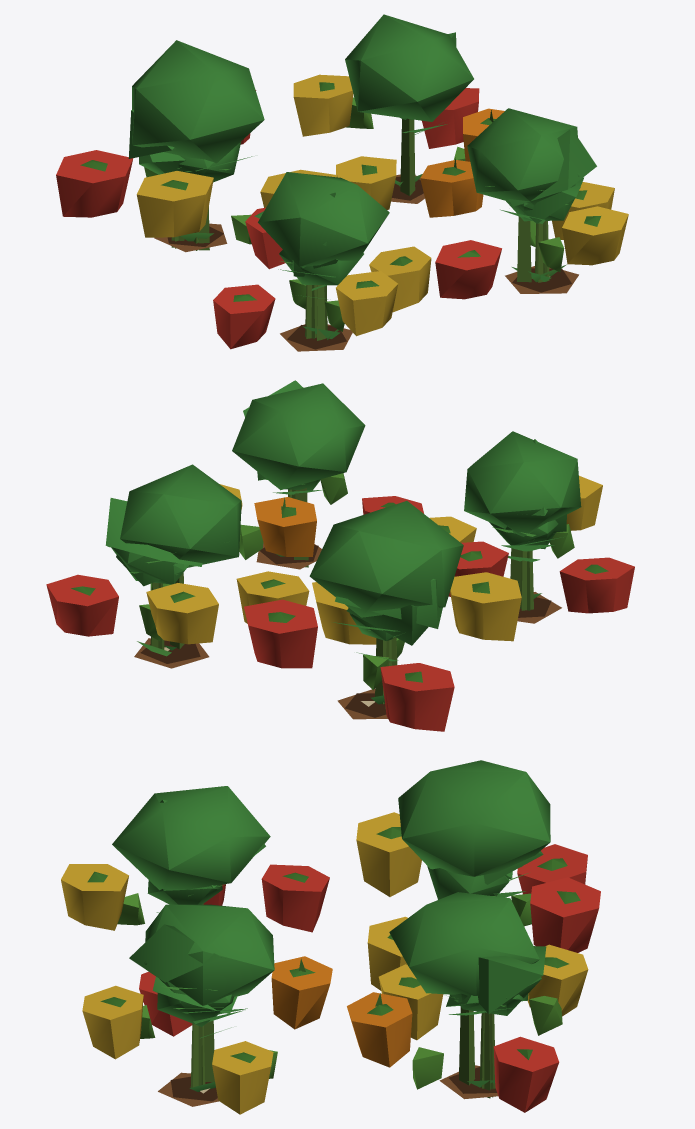
Rendered from pepper.glb.
The picture shows the model from 3 angles, top to bottom: view 1: azimuth 30°, elevation 25°; view 2: azimuth 150°, elevation 25°; view 3: azimuth 270°, elevation 25°; orthographic projection. The views are drawn at different scales.
Visible parts, largest first — view 1: crop-pepper-3, crop-pepper-2, crop-pepper-0, crop-pepper-3-far, crop-pepper-2-far, crop-pepper-1; view 2: crop-pepper-3, crop-pepper-2, crop-pepper-3-far, crop-pepper-0, crop-pepper-2-far; view 3: crop-pepper-3, crop-pepper-2, crop-pepper-3-far, crop-pepper-0, crop-pepper-2-far.
Boxes of the visible parts, x1=… form: crop-pepper-3: x1=56, y1=14, x2=628, y2=349; crop-pepper-2: x1=144, y1=97, x2=580, y2=340; crop-pepper-0: x1=154, y1=174, x2=578, y2=351; crop-pepper-3-far: x1=128, y1=32, x2=596, y2=338; crop-pepper-2-far: x1=139, y1=124, x2=583, y2=338; crop-pepper-1: x1=180, y1=174, x2=566, y2=339; crop-pepper-3: x1=46, y1=383, x2=634, y2=731; crop-pepper-2: x1=111, y1=473, x2=574, y2=690; crop-pepper-3-far: x1=105, y1=380, x2=554, y2=708; crop-pepper-0: x1=134, y1=542, x2=561, y2=719; crop-pepper-2-far: x1=116, y1=472, x2=566, y2=665; crop-pepper-3: x1=61, y1=760, x2=600, y2=1114; crop-pepper-2: x1=117, y1=866, x2=562, y2=1098; crop-pepper-3-far: x1=129, y1=799, x2=546, y2=1096; crop-pepper-0: x1=158, y1=1065, x2=498, y2=1106; crop-pepper-2-far: x1=152, y1=871, x2=528, y2=1097.
Size of the model in its own units: 1.97 by 0.6941 by 2.02.
